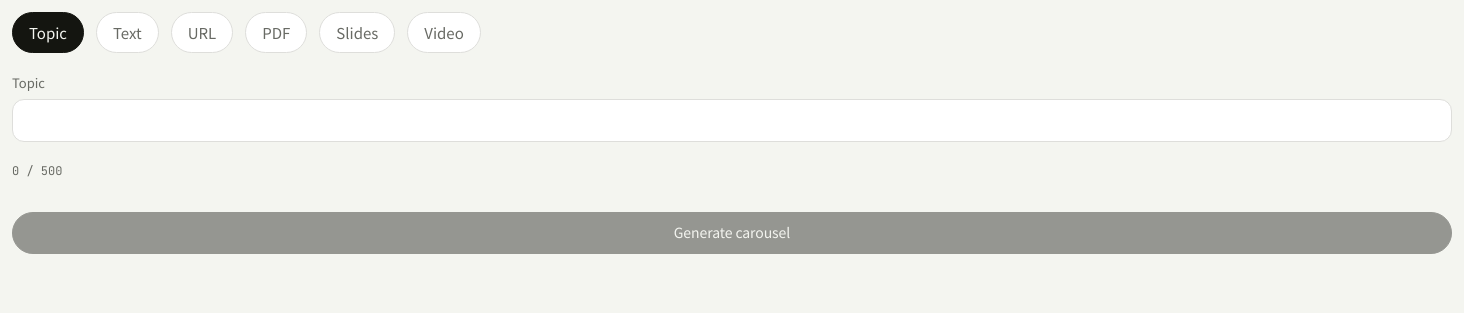
Test: SourceInput › shows the alternative action a rejected source names
Click the tab "URL".
click(202, 33)  # box [171,12,233,53]
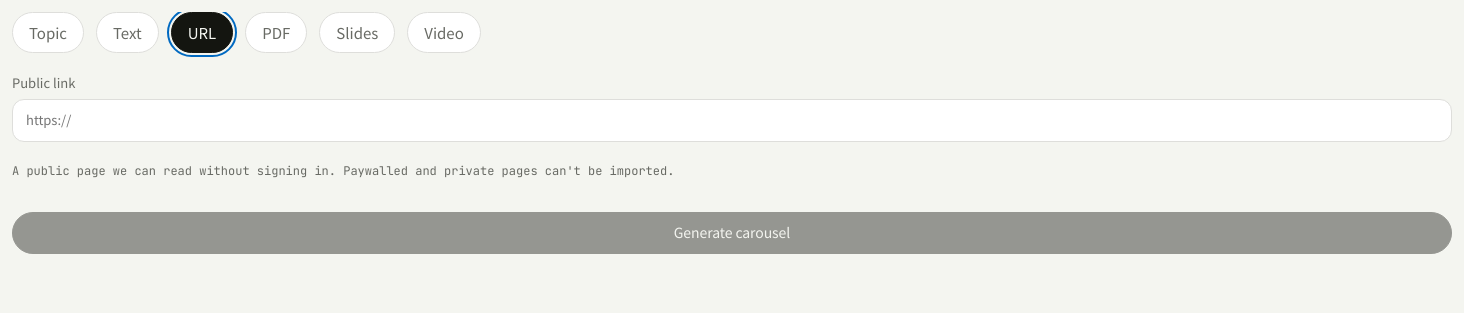
Type "https://example.com/paywalled" into the field labelled "Public link".
click(732, 120); type("https://example.com/paywalled")  # box [12,99,1452,142]
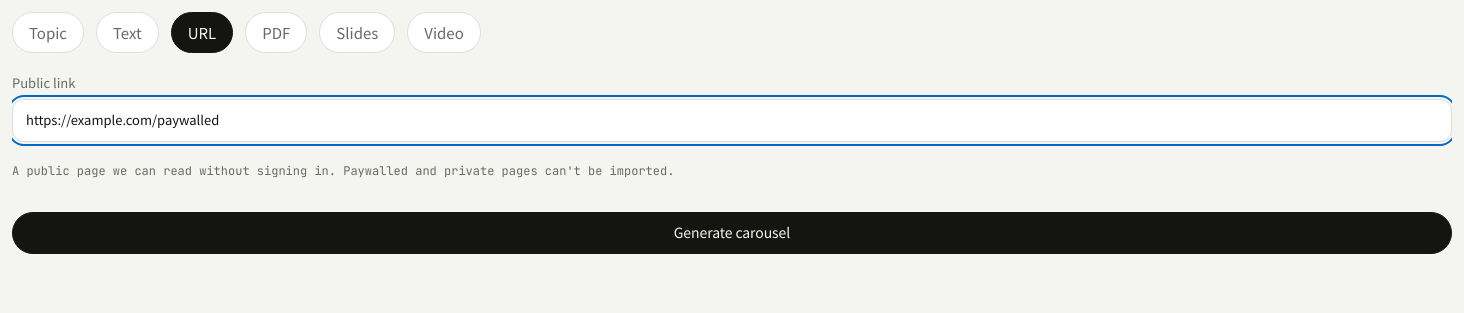
Click the button "Generate carousel".
click(732, 233)  # box [12,212,1452,254]
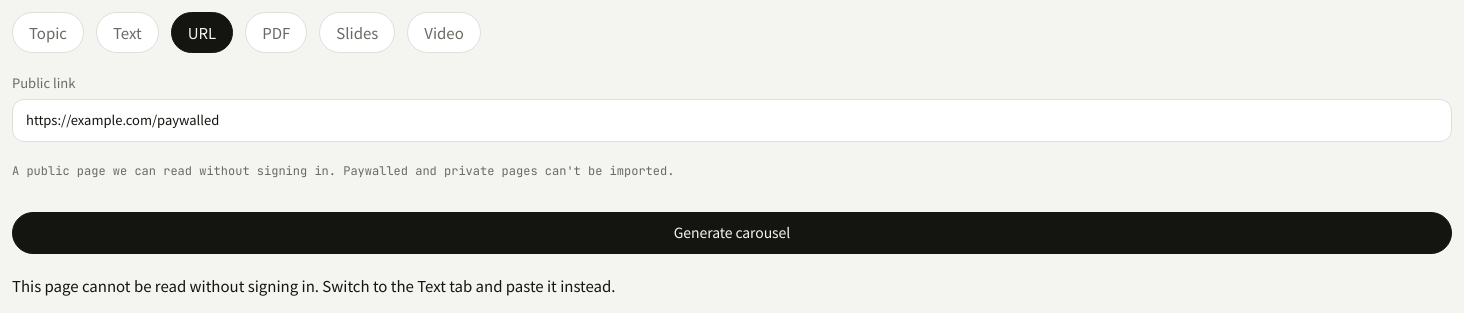
Check: the message shows "This page cannot be read without signing in.", box [12,275,319,296]
Check: the message shows "Switch to the Text tab and paste it instead.", box [319,275,615,296]
